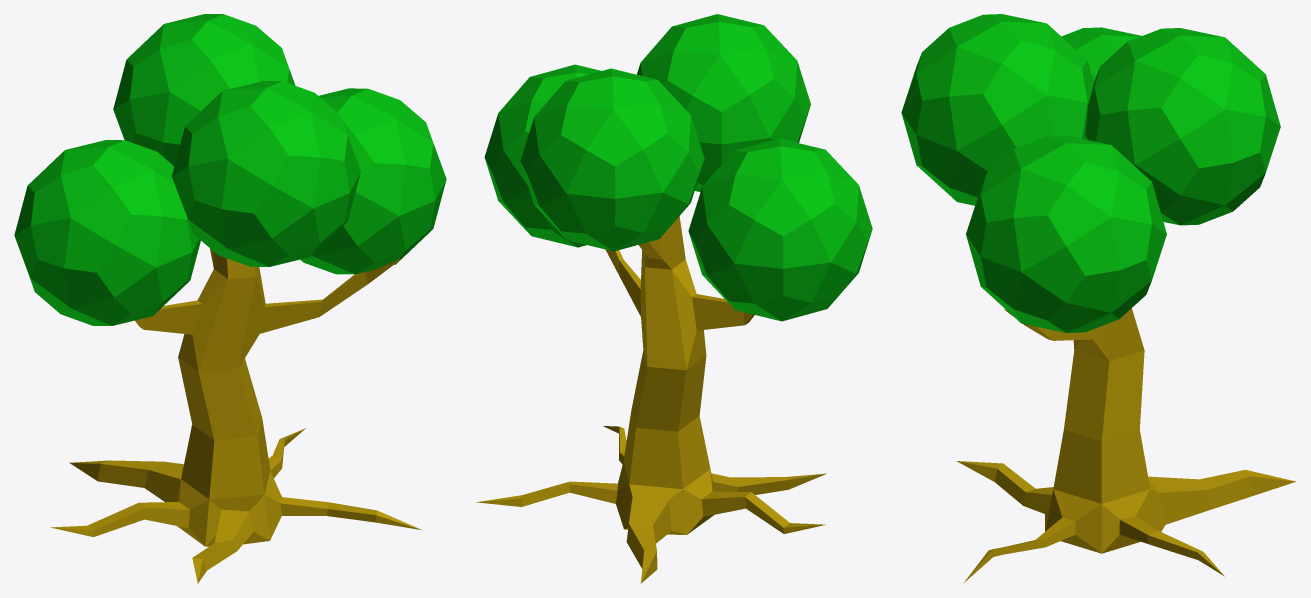
Rendered from OGTree.glb.
3 renders of one model, left to right at view 1: azimuth 30°, elevation 25°; view 2: azimuth 150°, elevation 25°; view 3: azimuth 270°, elevation 25°, orthographic. The views are drawn at different scales.
Visible parts, largest first — view 1: trunk, leaves1, leaves3, leaves, leaves2; view 2: trunk, leaves2, leaves3, leaves1, leaves; view 3: leaves, trunk, leaves2, leaves1, leaves3.
Part boxes in pixels (x1,y1,x2,y2): trunk: (50, 248, 422, 583); leaves1: (172, 81, 360, 266); leaves3: (14, 140, 200, 325); leaves: (300, 88, 446, 274); leaves2: (113, 14, 295, 165); trunk: (476, 216, 826, 583); leaves2: (520, 68, 704, 251); leaves3: (688, 138, 872, 321); leaves1: (637, 14, 810, 192); leaves: (484, 64, 600, 247); leaves: (966, 135, 1166, 332); trunk: (957, 308, 1295, 583); leaves2: (1085, 28, 1280, 225); leaves1: (901, 14, 1093, 205); leaves3: (1061, 27, 1141, 81).
Bounding box in the file's own units: 11.88 × 14.5 × 9.89.
